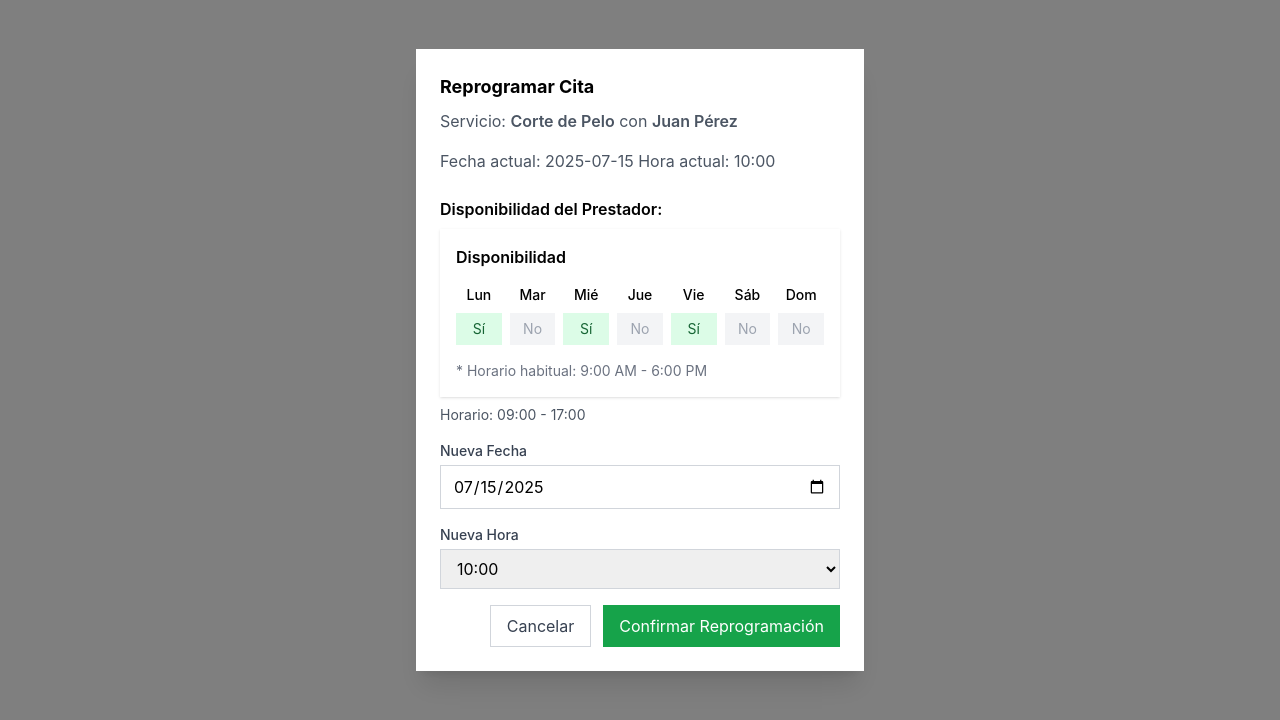
Test: RescheduleAppointmentModal › debe mostrar un error si se intenta reprogramar una fecha en el pasado
Type "2025-06-30" into the date field labelled "Nueva Fecha" at point(640, 487), box [440, 465, 840, 509]
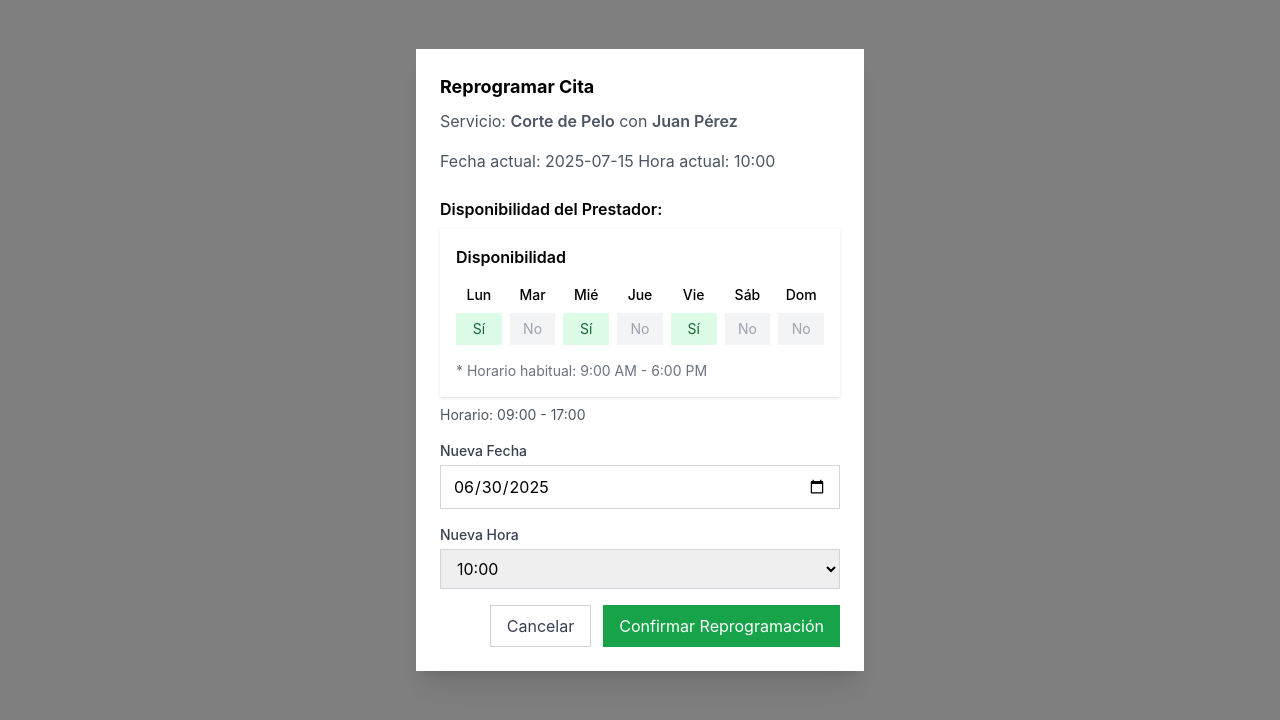
Select "10:00" in the dropdown labelled "Nueva Hora" at point(640, 569), box [440, 549, 840, 589]
Click the button "Confirmar Reprogramación" at point(722, 626), box [603, 605, 840, 647]
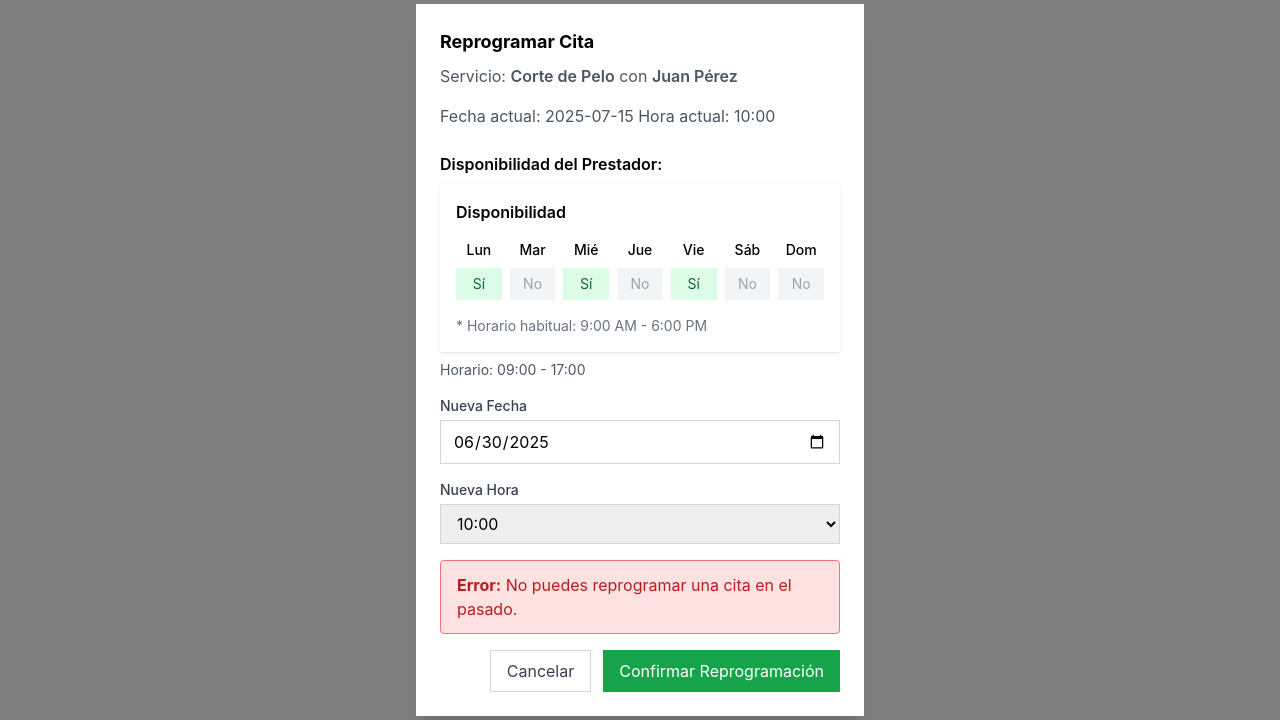
Result: the text "No puedes reprogramar una cita en el pasado." is shown at [457, 575, 792, 619]
